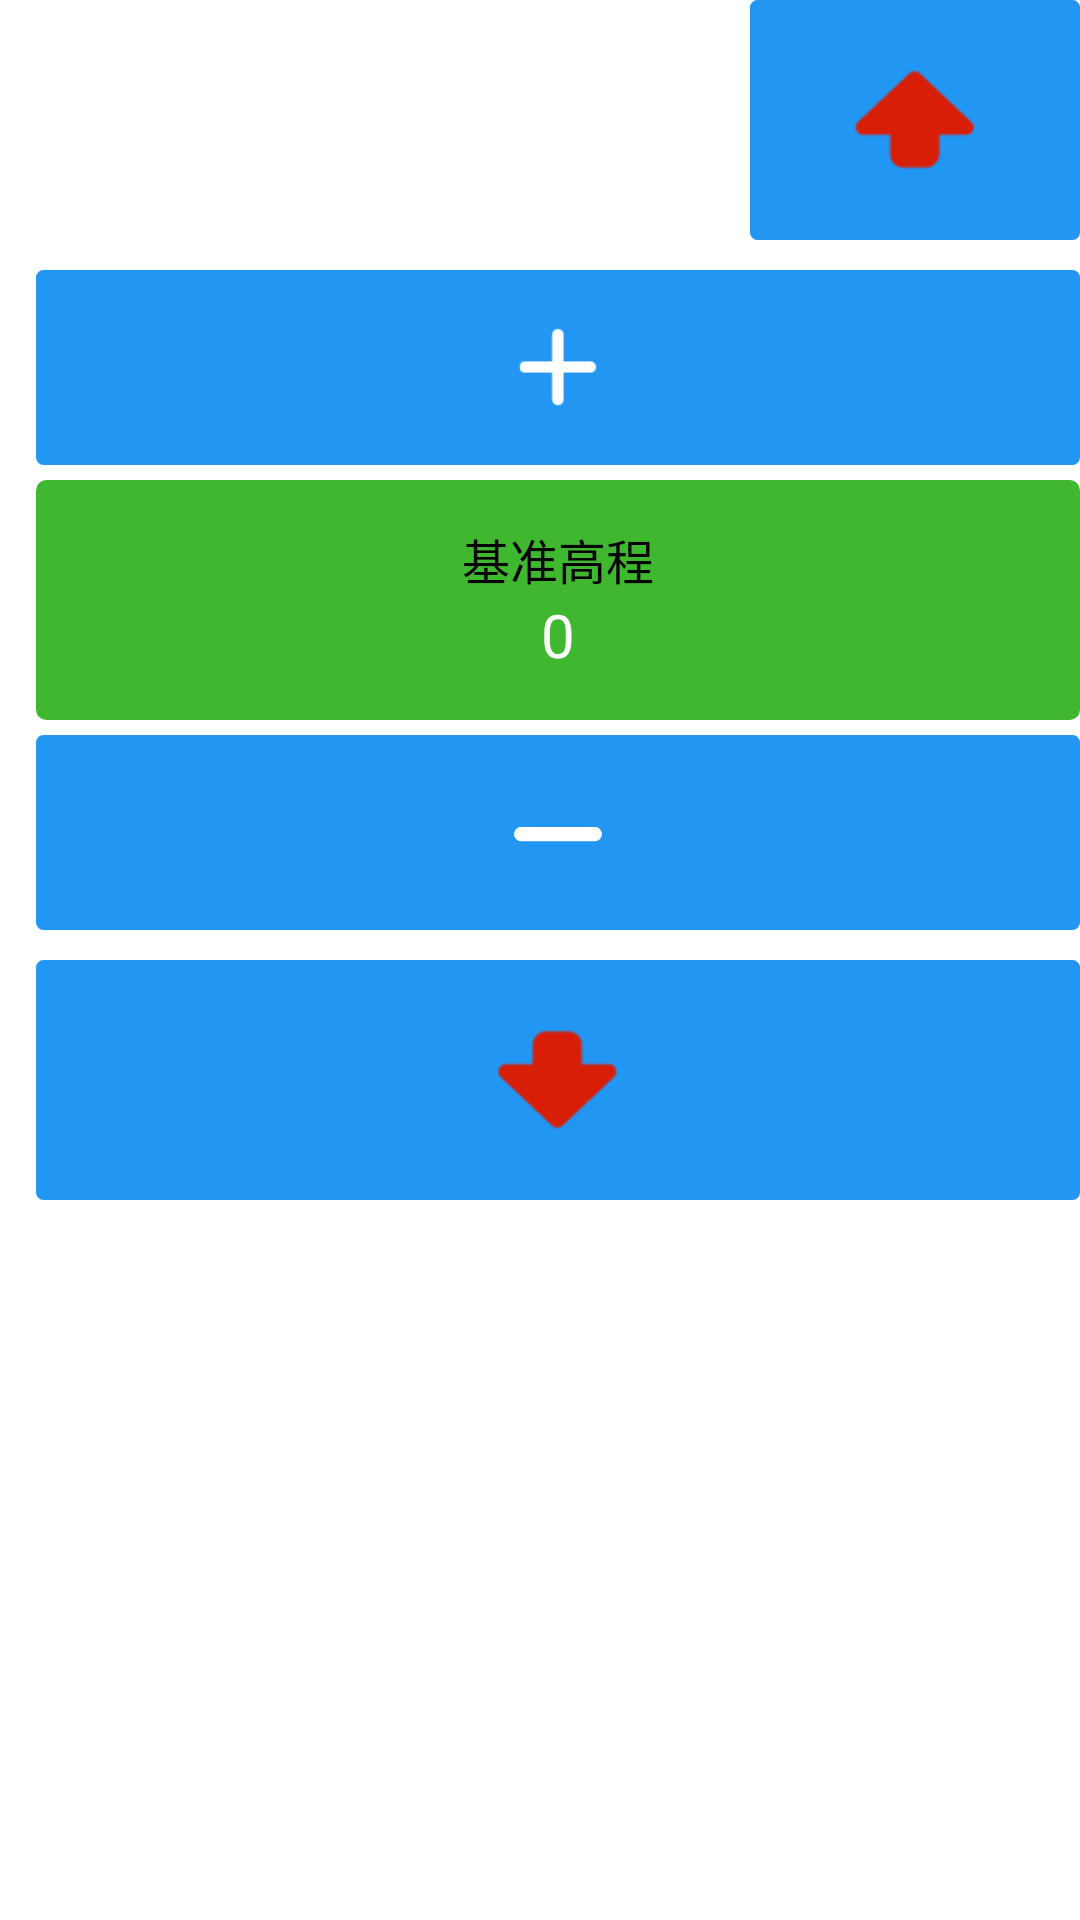

Named icons in this screenshot (1080 × 1920) and their bounding boxes, box(x1, y1, x2, y2):
down: box(498, 1030, 617, 1129)
minus: box(514, 827, 602, 842)
plus: box(519, 328, 597, 406)
